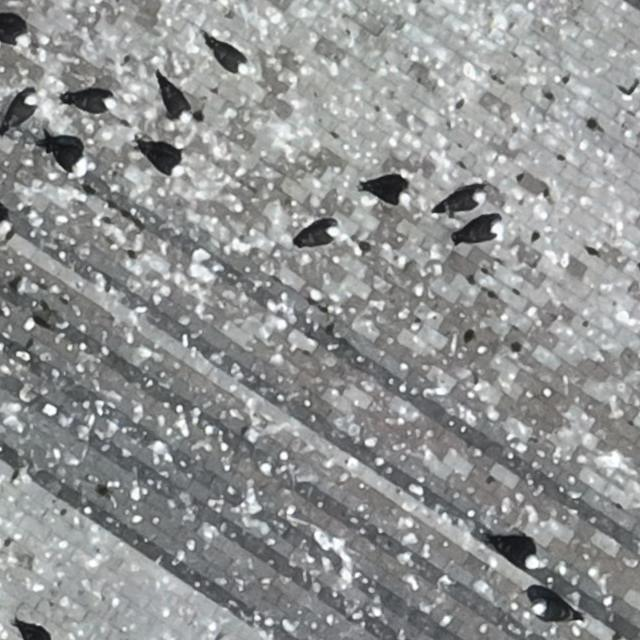umineko: (46, 138, 91, 179), (494, 539, 540, 566), (144, 147, 184, 175), (211, 44, 247, 72), (365, 182, 408, 204), (457, 221, 500, 243), (67, 93, 114, 113), (531, 600, 573, 622), (163, 85, 191, 118), (442, 191, 484, 212), (8, 94, 35, 126), (1, 17, 29, 45), (298, 225, 337, 245)
